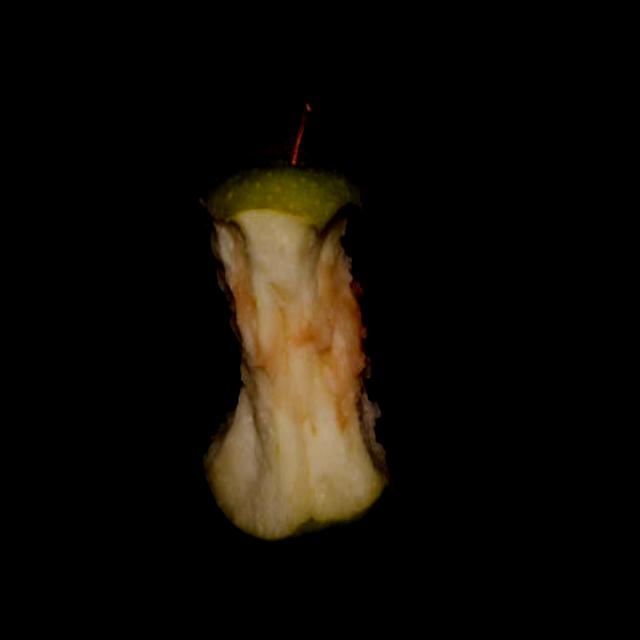Used Apple: (178, 146, 399, 544)
